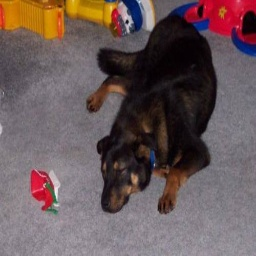dog: (84, 11, 217, 223)
